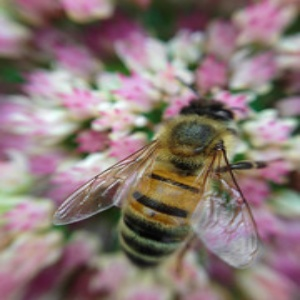bee: (53, 95, 270, 274)
